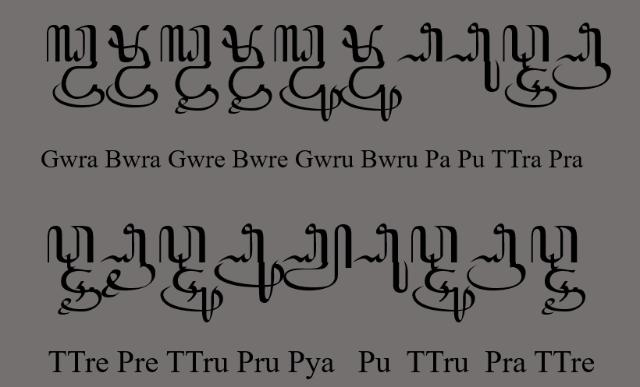Bwr: (105, 25, 158, 109)
Bwre: (221, 24, 273, 114)
Bwru: (339, 25, 403, 123)
Gwr: (47, 24, 105, 108)
Gwre: (159, 25, 219, 115)
Gwru: (274, 25, 342, 123)
T: (159, 224, 207, 271), (47, 225, 95, 271), (530, 225, 578, 271), (410, 225, 458, 270), (502, 23, 548, 68)
_P: (396, 22, 444, 64)
_Pr: (466, 223, 526, 292), (553, 22, 611, 90)
_Pre: (100, 223, 156, 299)
_Pru: (213, 224, 284, 304)
_Pu: (443, 22, 501, 92), (353, 224, 409, 294)
_Py: (281, 224, 353, 292)
_Tr: (504, 68, 556, 108)
_Tre: (58, 268, 102, 318), (541, 270, 587, 316)
_Tru: (160, 268, 224, 324), (412, 269, 476, 323)
